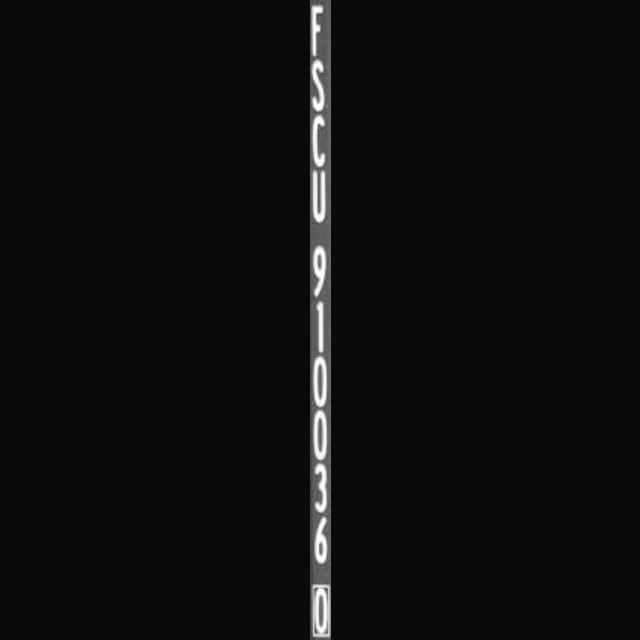0: (310, 354, 330, 416), (310, 582, 330, 640), (310, 408, 330, 454)
1: (310, 296, 330, 350)
3: (310, 456, 330, 516)
6: (310, 512, 330, 566)
9: (310, 242, 330, 298)
c: (310, 110, 330, 163)
f: (310, 0, 330, 60)
s: (310, 56, 330, 112)
u: (310, 166, 330, 226)
